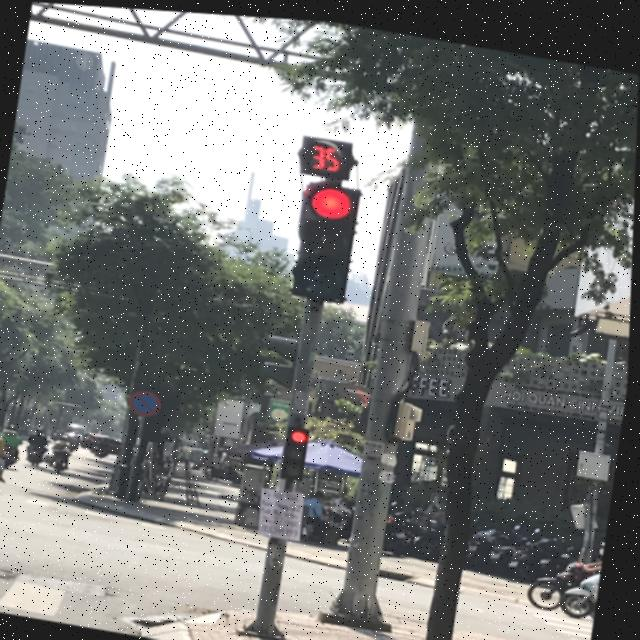Red: (287, 171, 365, 305), (281, 418, 318, 482)
